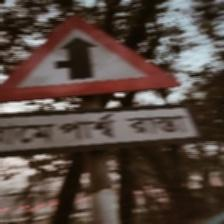Side-road-left: (0, 16, 197, 157)
